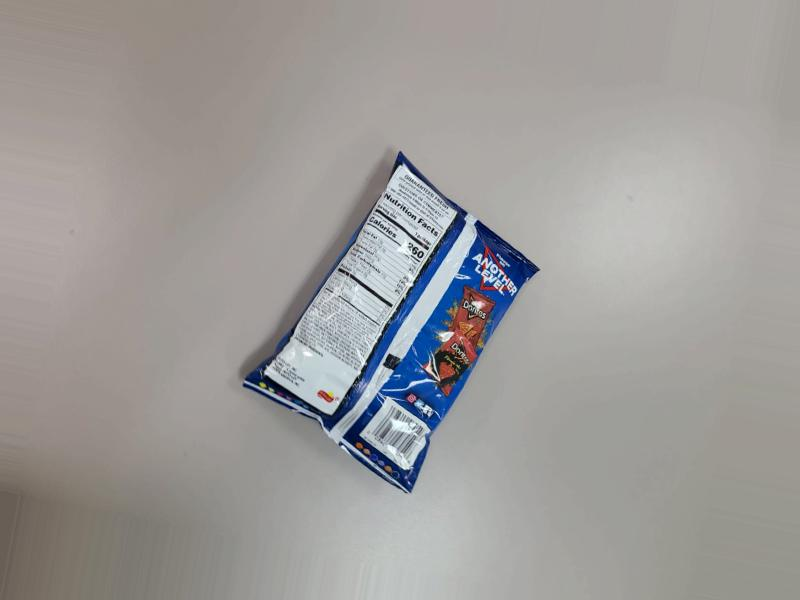doritos: (253, 137, 529, 509)
